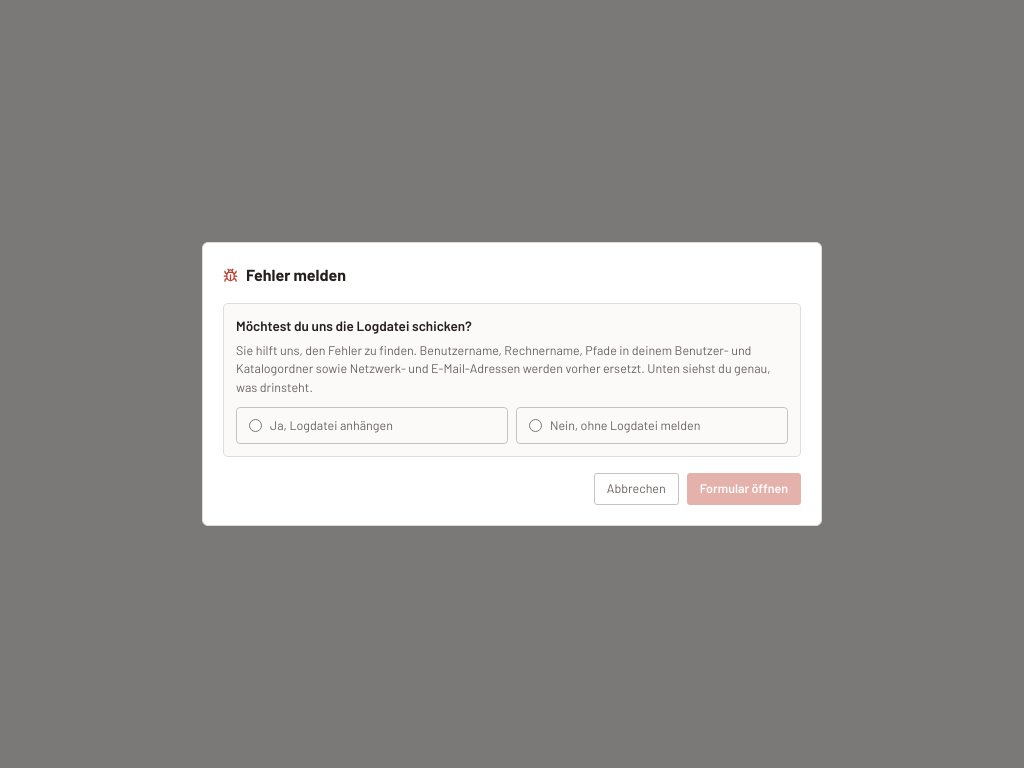
Test case: BugReportDialog › saves the log, opens the form and keeps the dialog open
This screenshot has width=1024, height=768.
Step 1. Click the text "Ja, Logdatei anhängen" → point(372, 425), box [236,407,508,444]
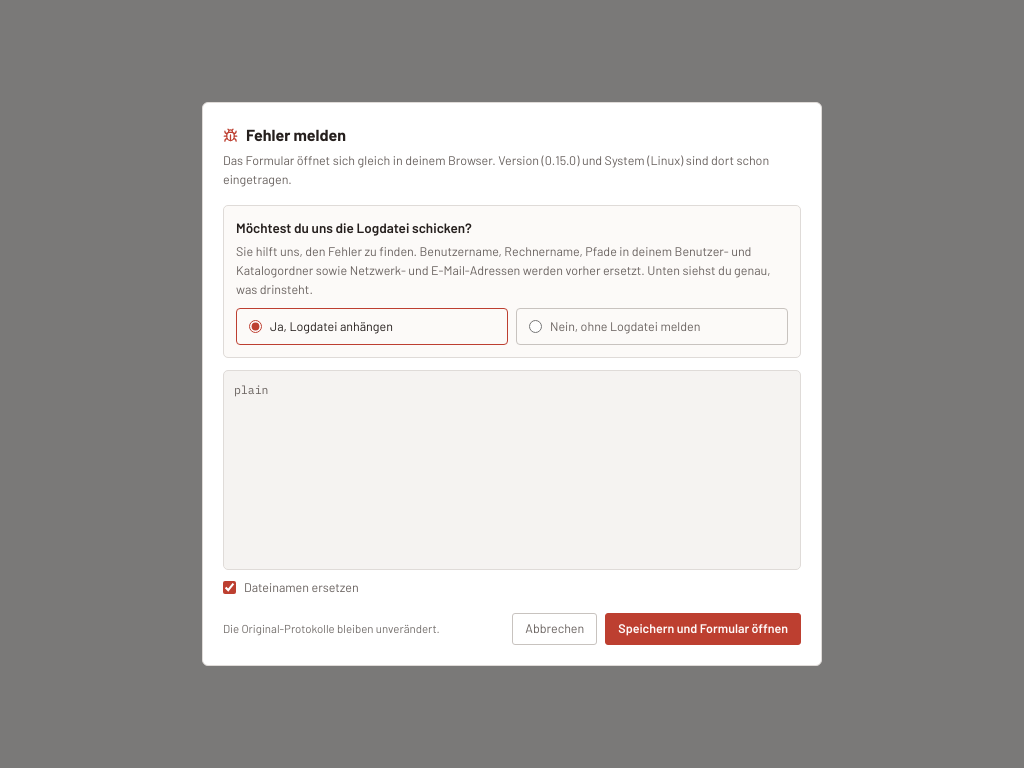
Now the checkbox is shown, box [223,581,236,594]
Step 2. Click the button "Speichern und Formular öffnen" → point(703, 629), box [605,613,801,645]
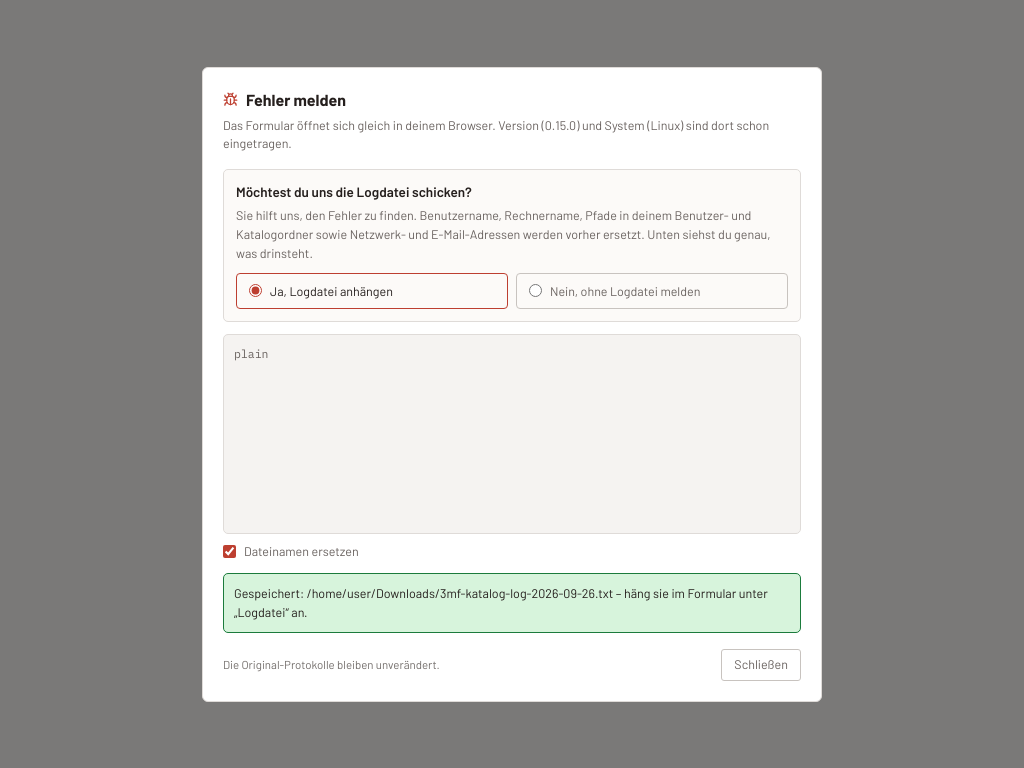
Expected: the dialog is shown, [202,66,822,702]
Now the text "3mf-katalog-log-2026-09-26.txt" is shown, box [234,585,768,620]
Now the button "Schließen" is shown, box [721,648,801,680]
